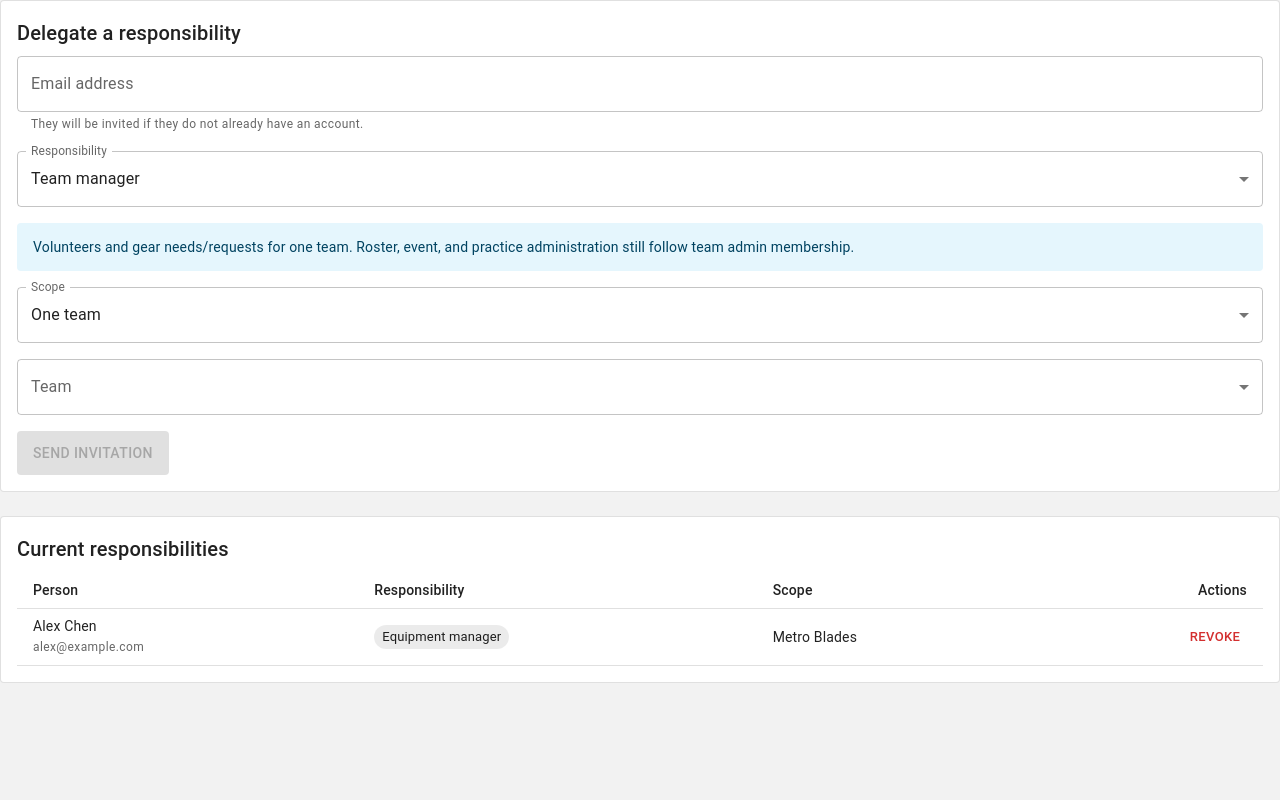
Scenario: RoleGrantManager › does not offer roles whose work is not yet routed through grants
Click the dropdown named "Responsibility". click: x=85, y=179
box: [31, 169, 140, 188]
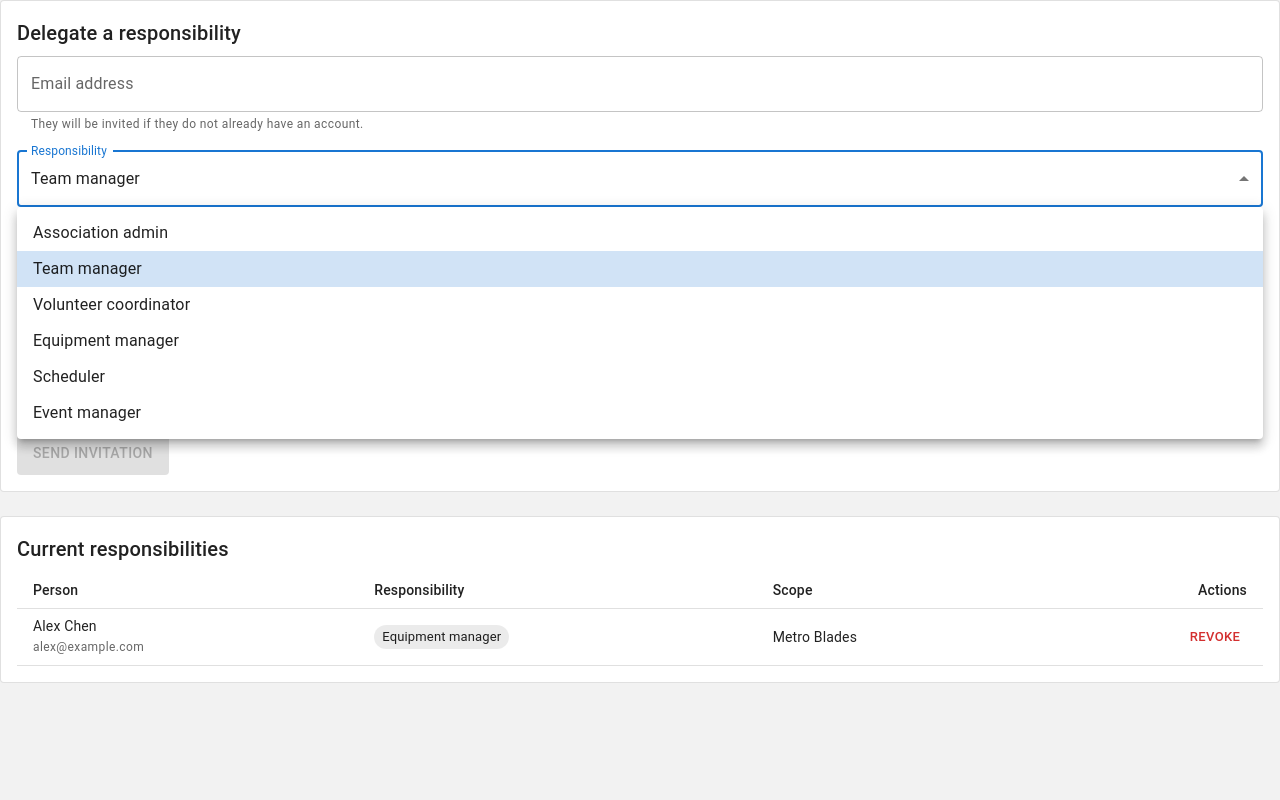
Result: the option "Equipment manager" is shown at [33, 331, 179, 350]
Result: the option "Volunteer coordinator" is shown at [33, 295, 190, 314]
Result: the option "Scheduler" is shown at [33, 367, 105, 386]
